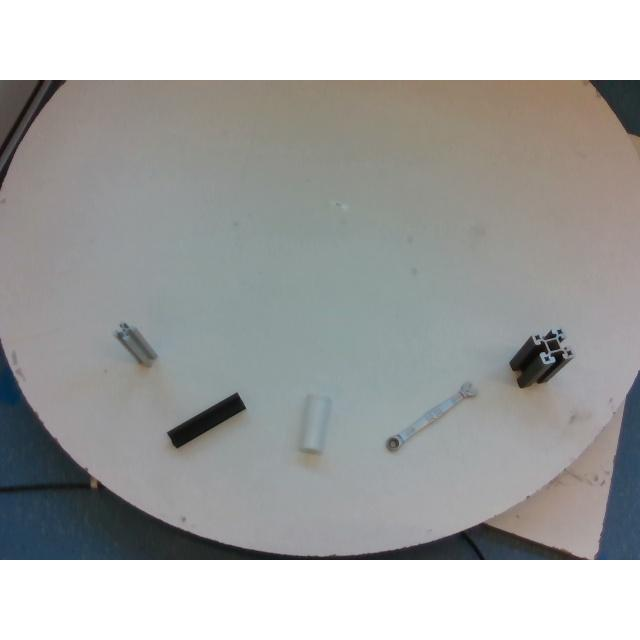F20_20_B: (168, 393, 245, 447)
F20_20_G: (114, 322, 156, 366)
S40_40_B: (508, 328, 572, 388)
Spacer: (299, 393, 331, 453)
Wrench: (385, 381, 477, 452)
